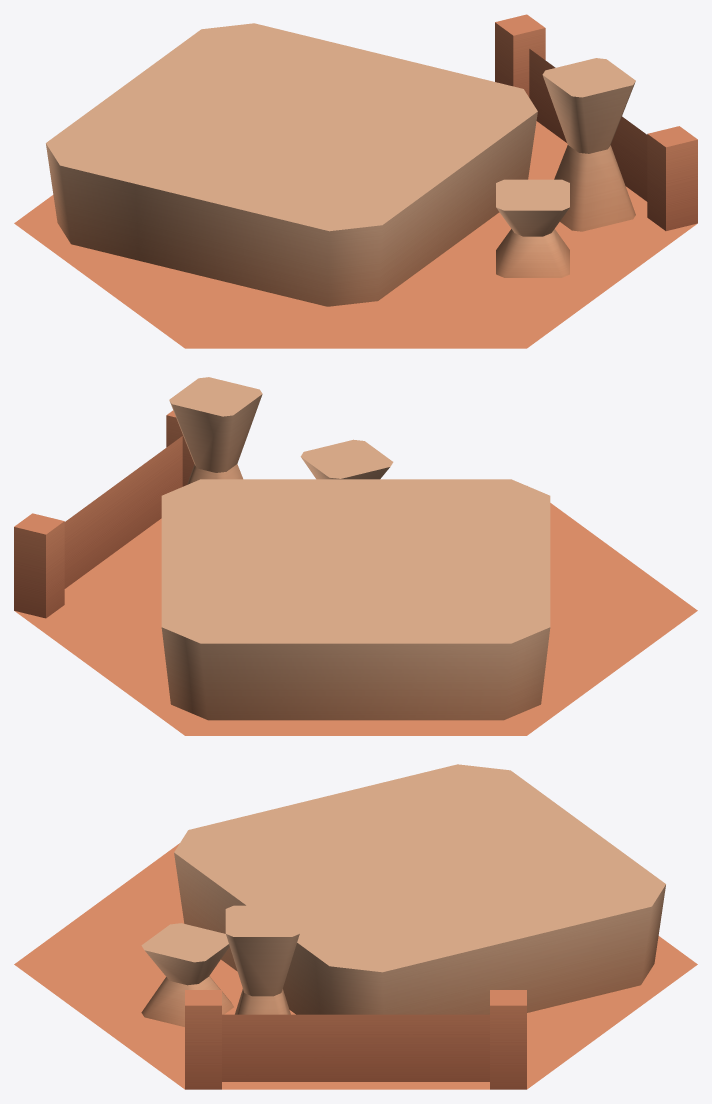
Rendered from farm.fbx.
The picture shows the model from 3 angles, top to bottom: view 1: azimuth 30°, elevation 25°; view 2: azimuth 150°, elevation 25°; view 3: azimuth 270°, elevation 25°; orthographic projection.
Visible parts, largest first — view 1: building_farm; view 2: building_farm; view 3: building_farm.
Part boxes in pixels (x1,y1,x2,y2): building_farm: [14, 14, 697, 348]; building_farm: [14, 377, 697, 735]; building_farm: [14, 764, 697, 1089].
Size of the model in its own units: 80 by 20 by 92.38.
